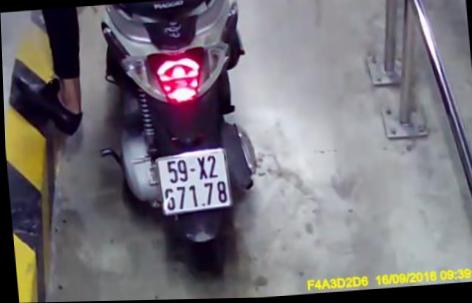LP: (152, 147, 234, 218)
